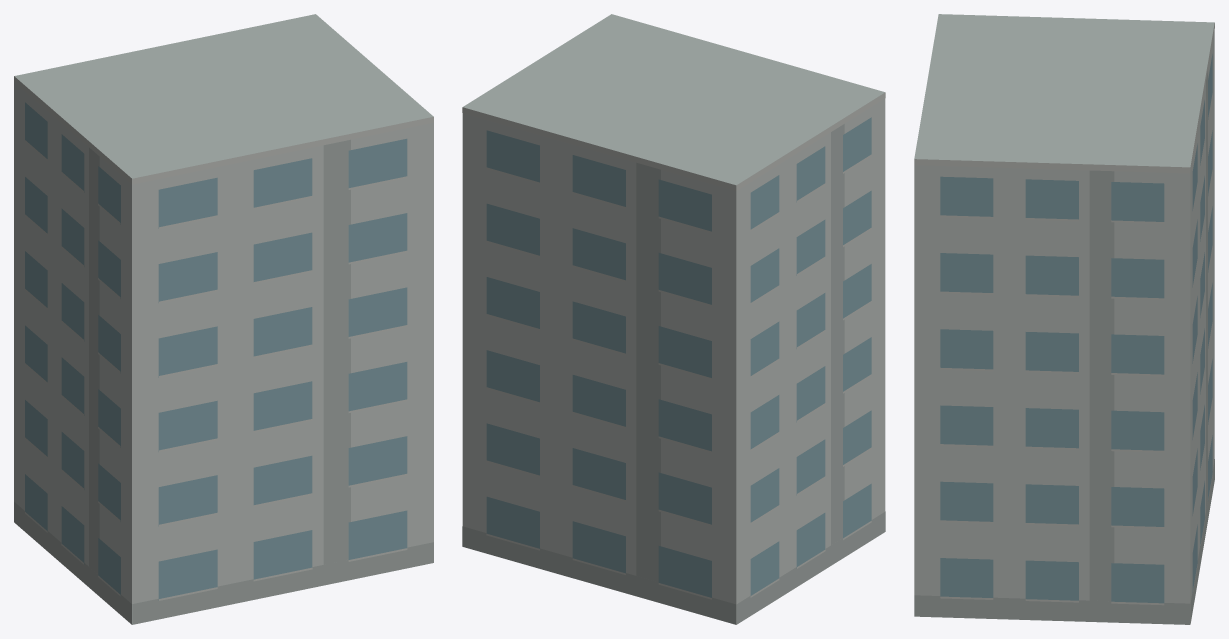
File: survey-upis-32980680.glb
3 views of the same model, side by side, from view 1: azimuth 30°, elevation 25°; view 2: azimuth 150°, elevation 25°; view 3: azimuth 270°, elevation 25° (orthographic). The views are drawn at different scales.
Parts seen in each view (by area): view 1: survey-upis-32980680.tmp; view 2: survey-upis-32980680.tmp; view 3: survey-upis-32980680.tmp.
Boxes of the visible parts, bbox=[...] form: survey-upis-32980680.tmp: bbox=[14, 14, 433, 624]; survey-upis-32980680.tmp: bbox=[462, 14, 885, 624]; survey-upis-32980680.tmp: bbox=[914, 14, 1214, 624].
Bounding box in the file's own units: 13.06 × 18.15 × 10.81.
